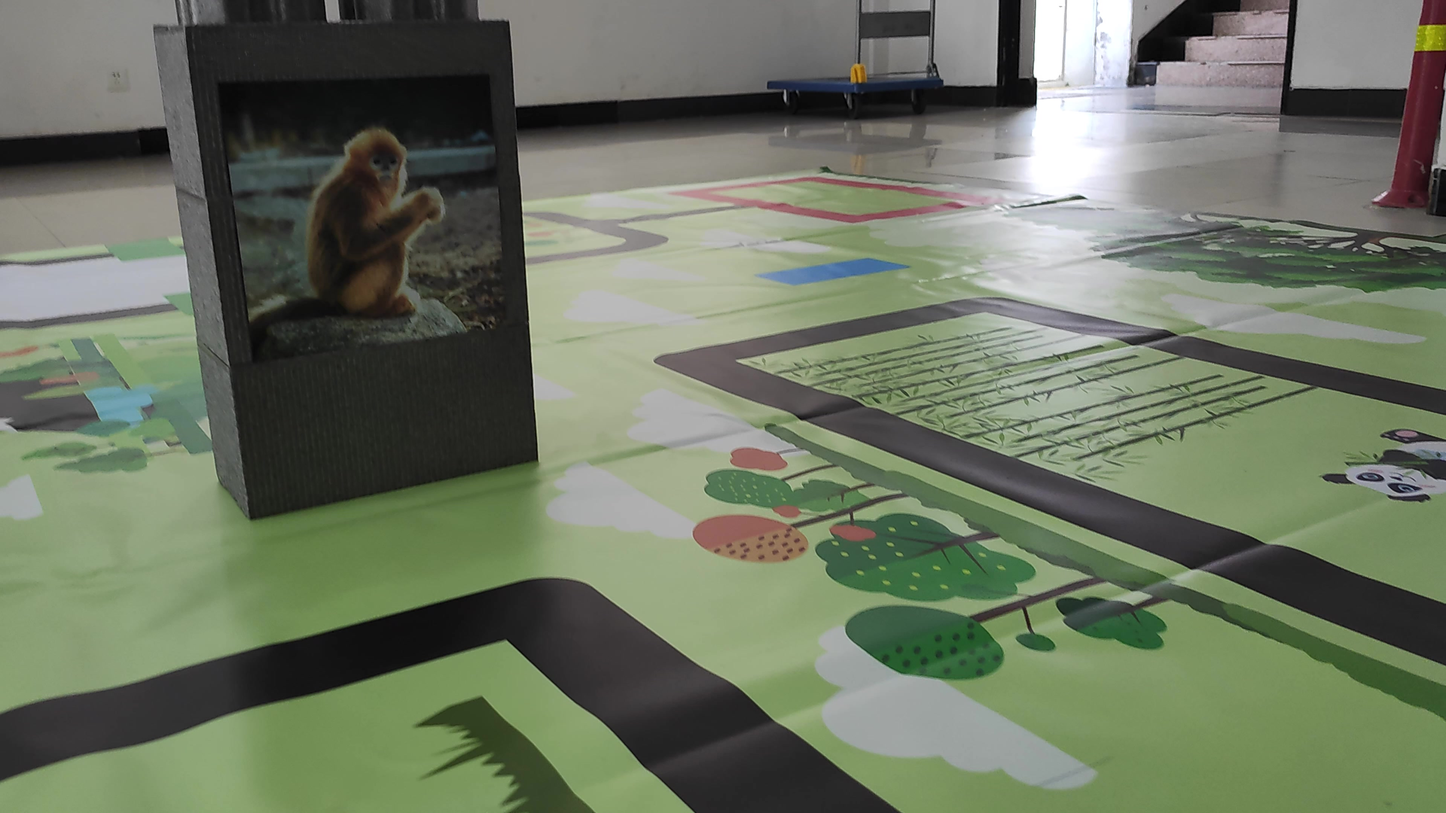monkey: (250, 113, 470, 362)
